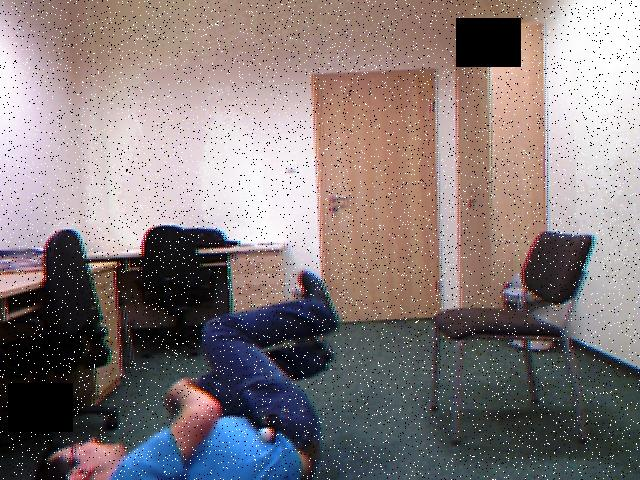fall: (45, 250, 357, 480)
